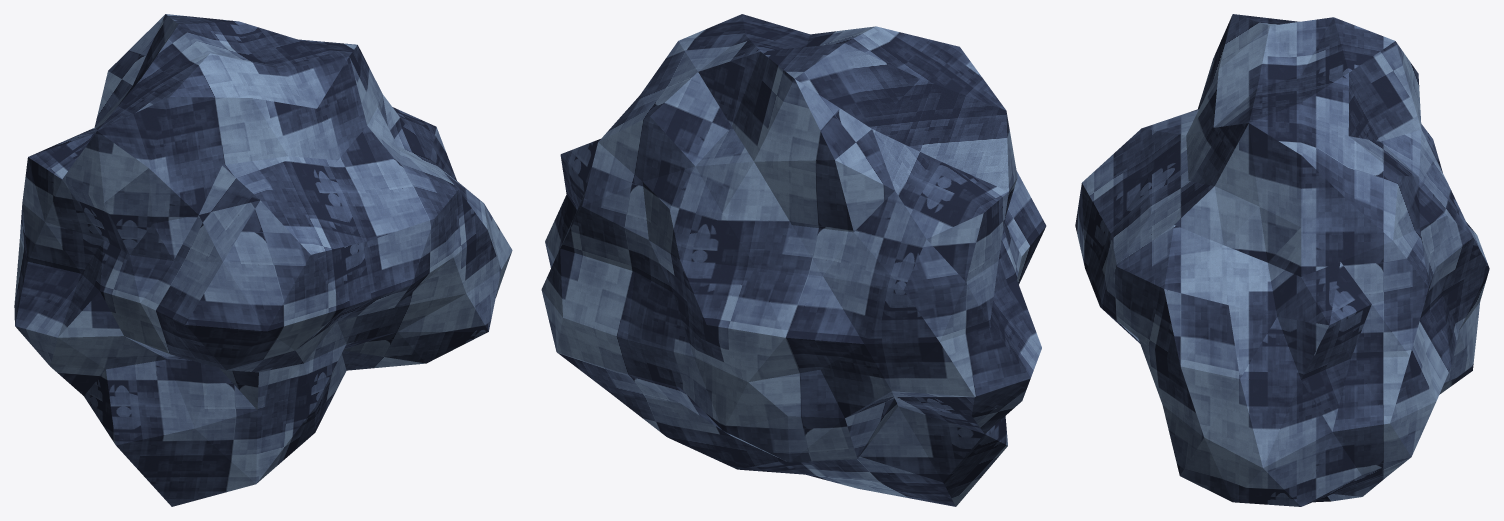
Rendered from asteroid_2.glb.
The picture shows the model from 3 angles, left to right: view 1: azimuth 30°, elevation 25°; view 2: azimuth 150°, elevation 25°; view 3: azimuth 270°, elevation 25°; orthographic projection. The views are drawn at different scales.
Parts seen in each view (by area): view 1: asteroid_2; view 2: asteroid_2; view 3: asteroid_2.
Part boxes in pixels (left/top/right/bottom): asteroid_2: left=14, top=14, right=512, bottom=506; asteroid_2: left=541, top=14, right=1046, bottom=506; asteroid_2: left=1075, top=14, right=1489, bottom=506.
Size of the model in its own units: 2.84 by 2.54 by 2.05.
Materials: 1 (1 with a texture image).
